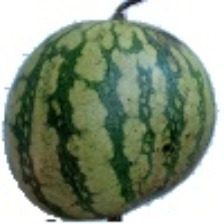watermelon: (47, 29, 221, 177)
